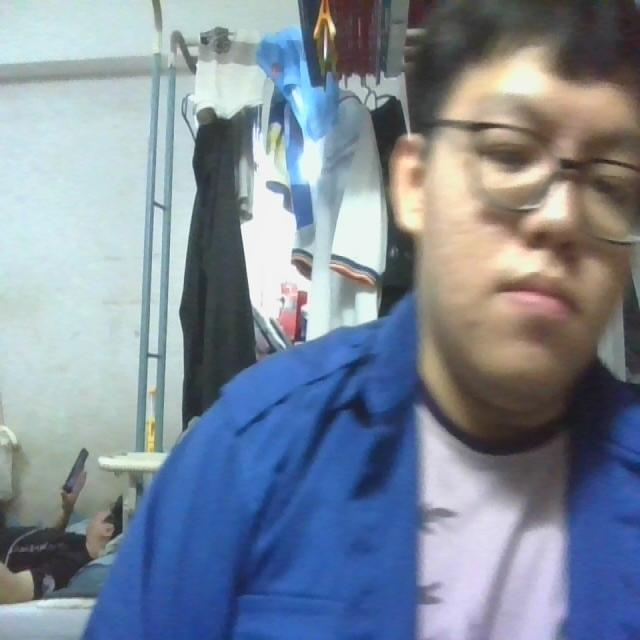person_with_labcoat: (86, 0, 639, 639)
